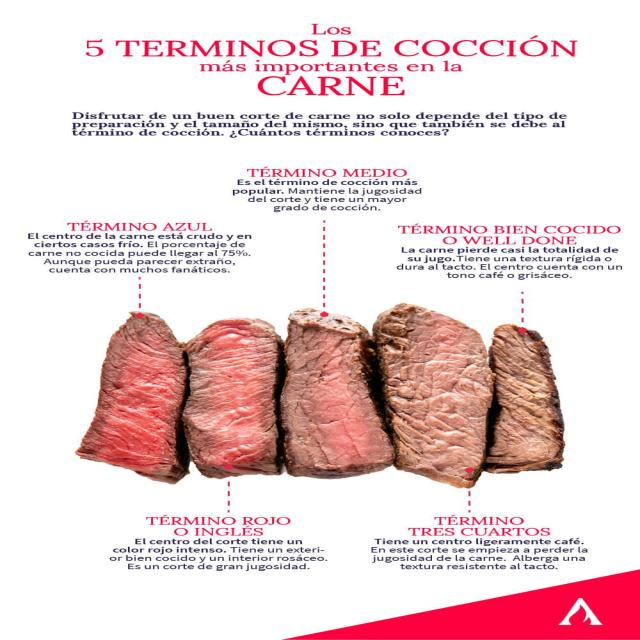carne de res: (53, 308, 593, 501)
